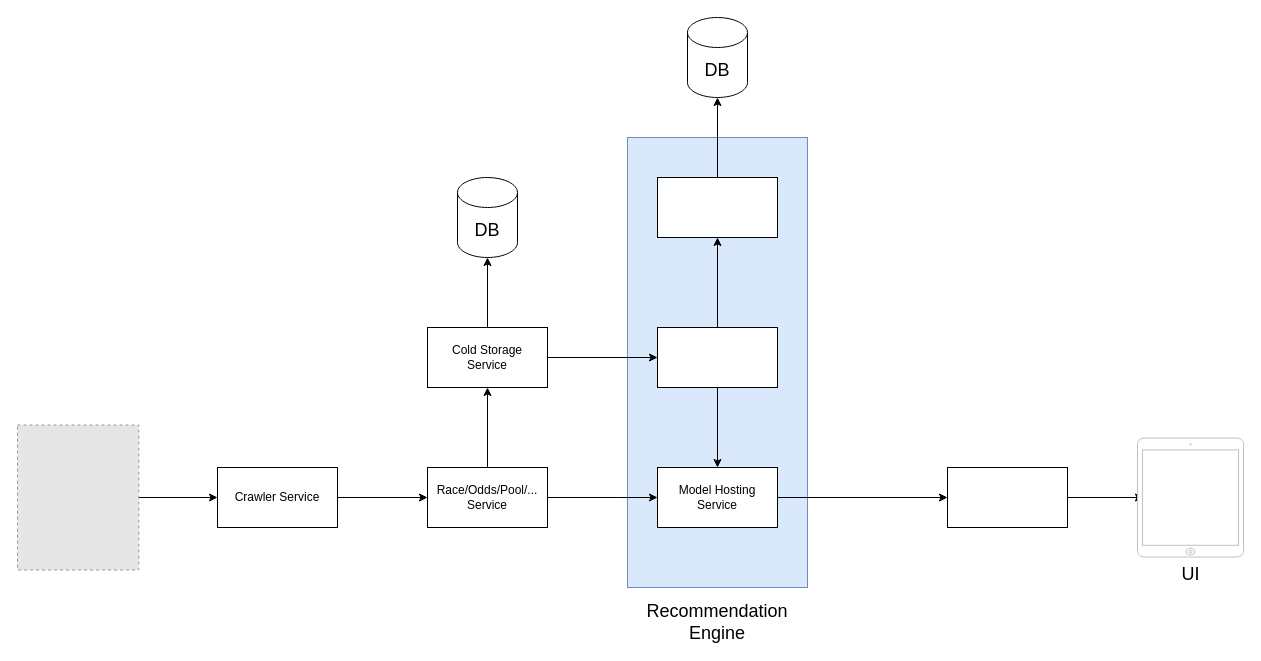
Some shapes in this 1261 by 661 pixel diagram are drawn without their labels. Grey dashed boxes stand in for pictures. Here are the shapes that lost their labels. From the top down, the centre of each, then its label:
pixel 717 207: Feature Store Service
pixel 717 357: Model Training Service
pixel 1007 497: Front-end Service
